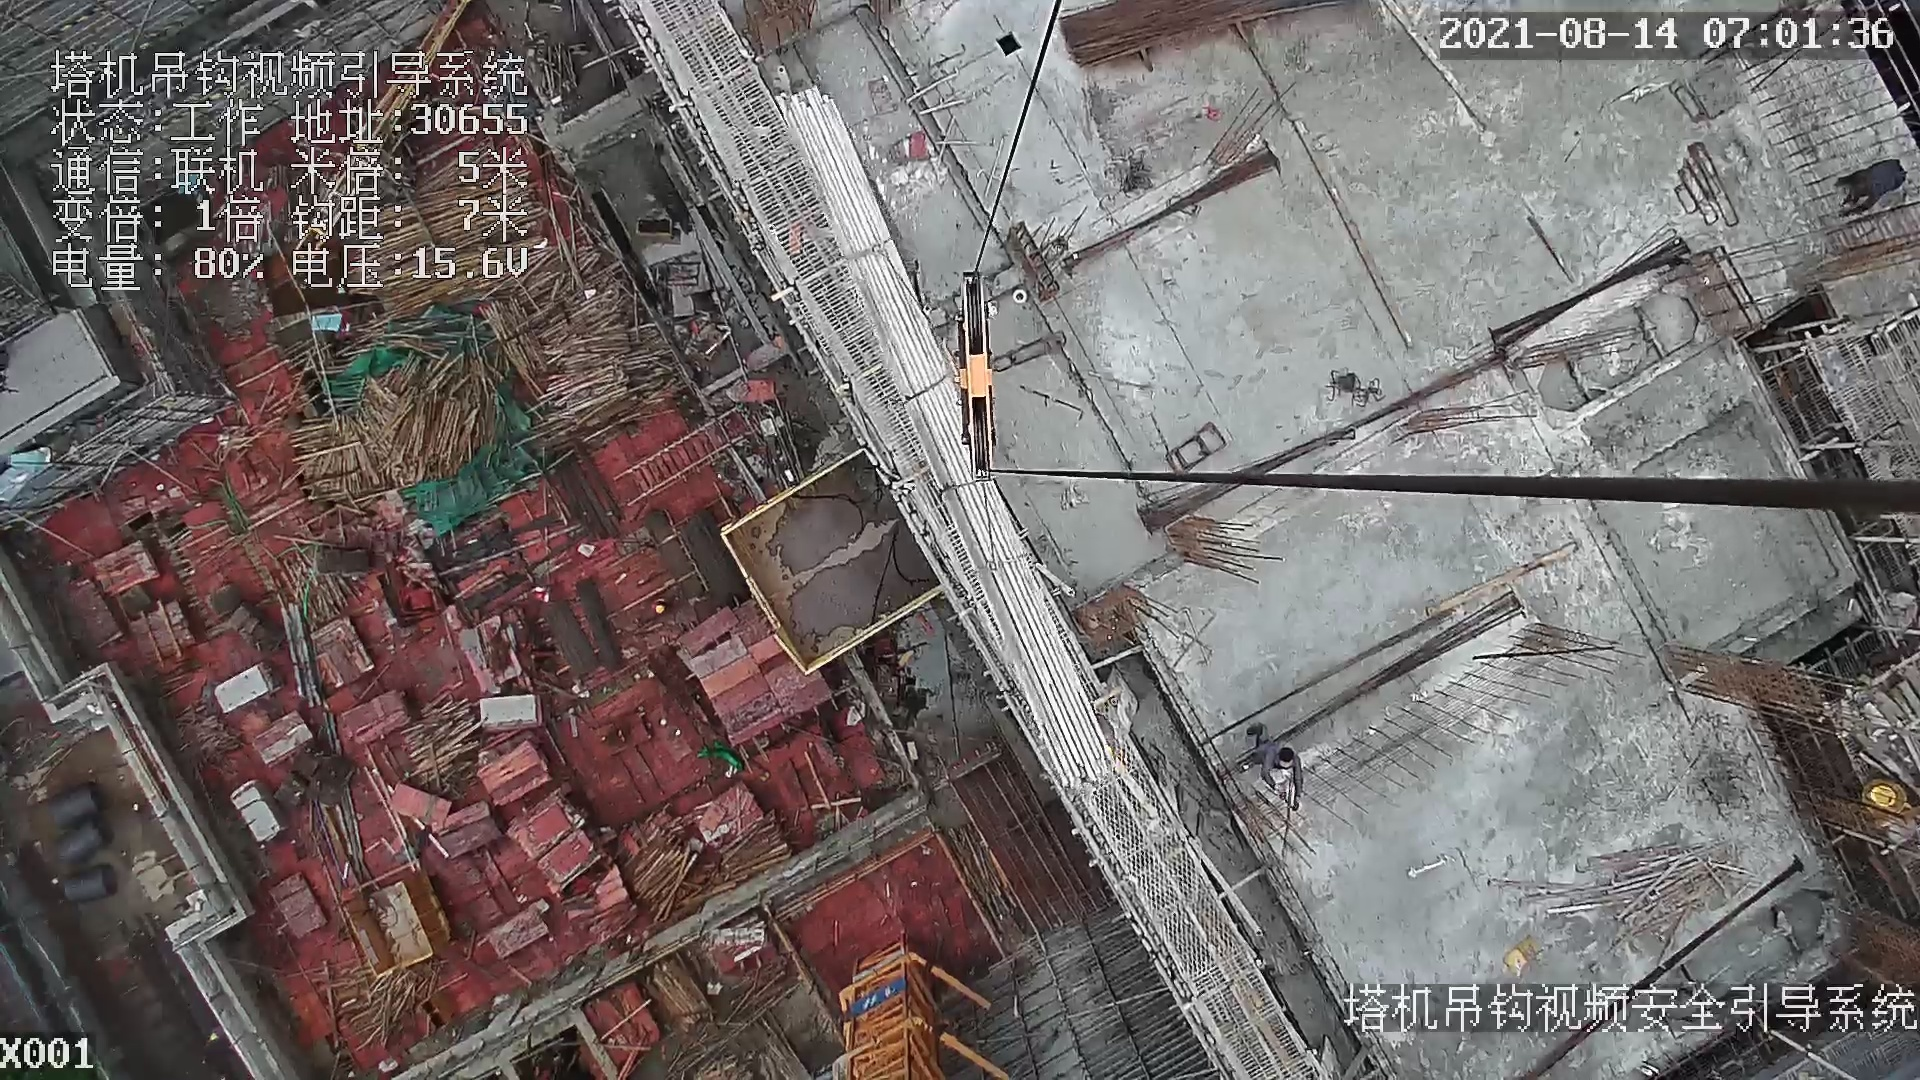person: (1246, 722, 1305, 817), (1838, 156, 1920, 216)
